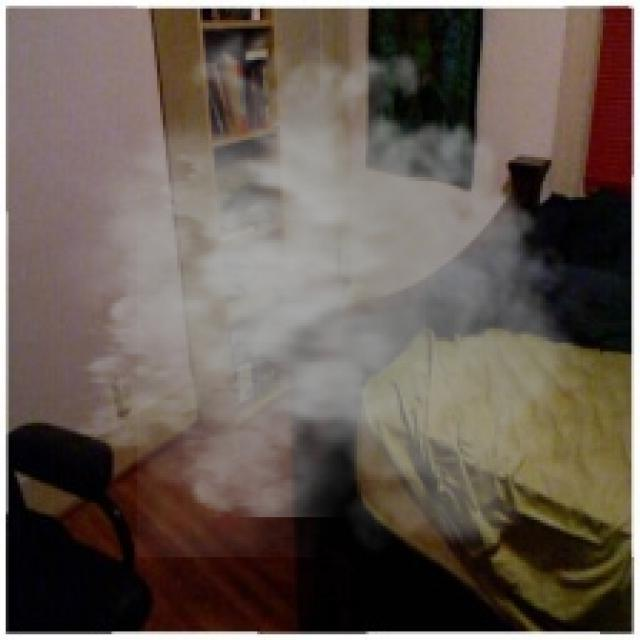Smoke: (40, 14, 600, 557)
